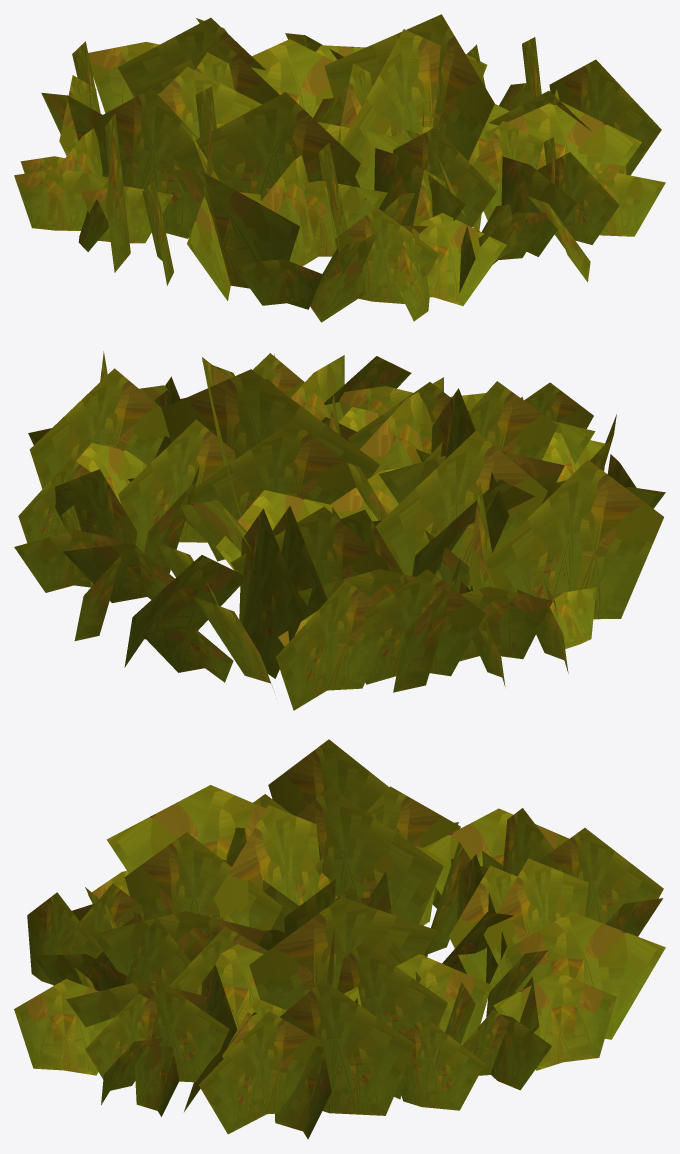
File: Grass_var1.fbx
The picture shows the model from 3 angles, top to bottom: view 1: azimuth 30°, elevation 25°; view 2: azimuth 150°, elevation 25°; view 3: azimuth 270°, elevation 25°; orthographic projection. The views are drawn at different scales.
Parts seen in each view (by area): view 1: Grass_Var1_LOD0; view 2: Grass_Var1_LOD0; view 3: Grass_Var1_LOD0.
Boxes of the visible parts, <box> form: Grass_Var1_LOD0: <box>14,14,665,322</box>; Grass_Var1_LOD0: <box>14,351,665,710</box>; Grass_Var1_LOD0: <box>14,739,665,1139</box>.
Size of what is drawn, in the model's own units: 110 by 34.57 by 111.
